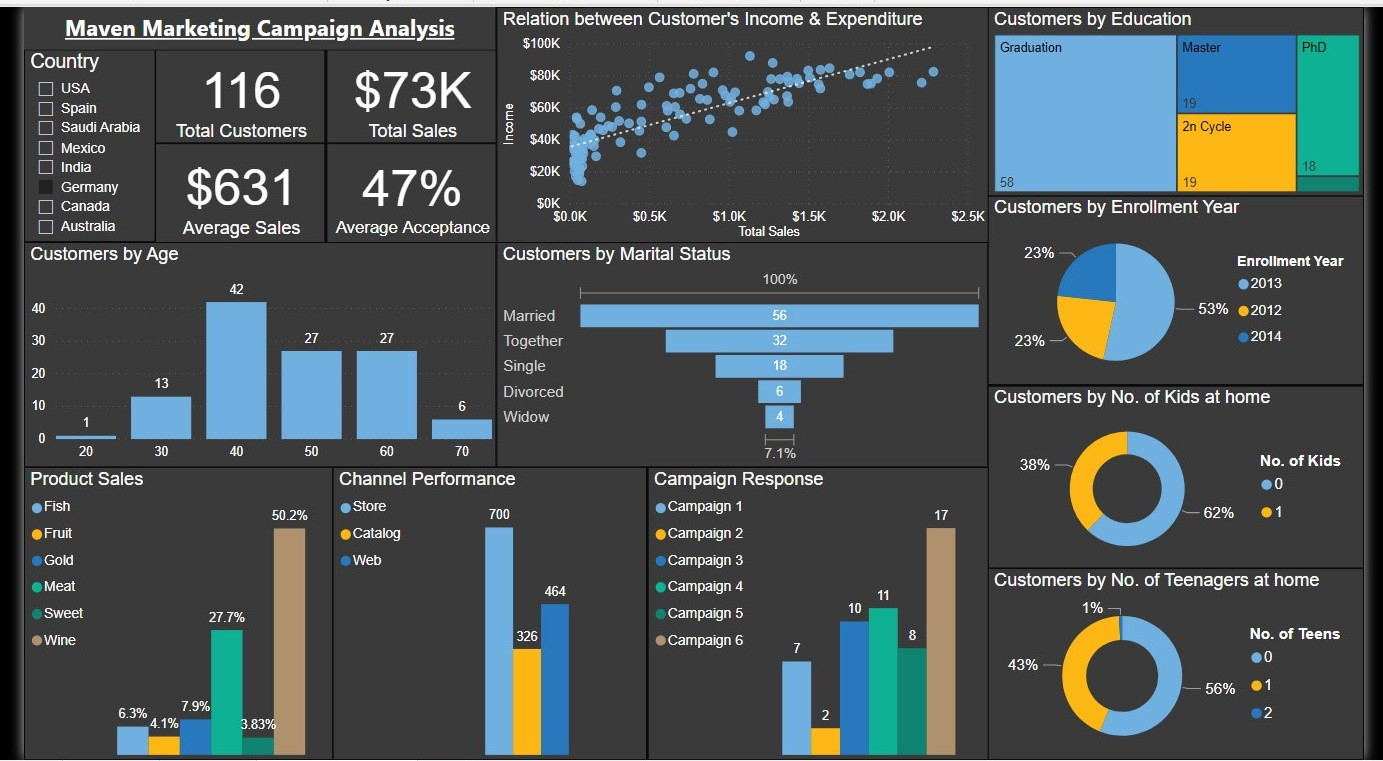

This screenshot's page, from the dashboard's own definition file:
{"tool":"powerbi","page":{"name":"Final Dashboard","canvas":[1280,720],"ordinal":4},"visuals":[{"type":"clusteredColumnChart","title":"Product Sales","fields":{"Y":["marketing_data.Fish Sales","marketing_data.Fruit Sales","marketing_data.Gold Sales","marketing_data.Meat Sales","marketing_data.Sweet Sales","marketing_data.Wine Sales"]},"box":[0,439.9,295.3,279.6],"z":0},{"type":"slicer","title":"Country","fields":{"Values":["marketing_data.Country"]},"box":[0,40.8,125.7,184.1],"z":1000},{"type":"scatterChart","title":"Relation between Customer''s Income & Expenditure","fields":{"Category":["marketing_data.ID"],"X":["marketing_data.Total Expenditure"],"Y":["Sum(marketing_data. Income )"]},"box":[450.8,0,470.1,225.4],"z":2000},{"type":"donutChart","title":"Customers by No. of Kids at home","fields":{"Category":["marketing_data.Kidhome"],"Y":["marketing_data.Total Customers"]},"box":[920.8,361.6,359.2,174.8],"z":3000},{"type":"clusteredColumnChart","title":"Channel Performance","fields":{"Y":["Sum(marketing_data.NumStorePurchases)","Sum(marketing_data.NumCatalogPurchases)","Sum(marketing_data.NumWebPurchases)"]},"box":[295.5,439.9,299.9,280.1],"z":4000},{"type":"donutChart","title":"Customers by No. of Teenagers at home","fields":{"Category":["marketing_data.Teenhome"],"Y":["marketing_data.Total Customers"]},"box":[920.8,536.3,359.2,183.2],"z":5000},{"type":"funnel","title":"Customers by Marital Status","fields":{"Category":["marketing_data.Marital_Status"],"Y":["marketing_data.Total Customers"]},"box":[451,224.9,469.7,215],"z":6000},{"type":"clusteredColumnChart","title":"Customers by Age","fields":{"Category":["marketing_data.Age (bins)"],"Y":["marketing_data.Total Customers"]},"box":[0,224.9,451,215],"z":7000},{"type":"clusteredColumnChart","title":"Campaign Response","fields":{"Y":["Sum(marketing_data.AcceptedCmp1)","Sum(marketing_data.AcceptedCmp2)","Sum(marketing_data.AcceptedCmp3)","Sum(marketing_data.AcceptedCmp4)","Sum(marketing_data.AcceptedCmp5)","Sum(marketing_data.Response)"]},"box":[595.4,439.9,325.3,280.1],"z":8000},{"type":"card","fields":{"Values":["marketing_data.Total Customers"]},"box":[125.7,40.8,162.1,89.3],"z":9000},{"type":"card","fields":{"Values":["marketing_data.Total Expenditure"]},"box":[288.9,40.8,162.1,89.3],"z":10000},{"type":"card","fields":{"Values":["marketing_data.Avg Expenditure"]},"box":[125.7,130.1,162.1,94.8],"z":11000},{"type":"card","fields":{"Values":["marketing_data.Avg Acceptance"]},"box":[288.9,130.1,162.1,94.8],"z":12000},{"type":"treemap","title":"Customers by Education","fields":{"Group":["marketing_data.Education"],"Values":["marketing_data.Total Customers"]},"box":[920.8,0,359.2,180.8],"z":13000},{"type":"pieChart","title":"Customers by Enrollment Year","fields":{"Category":["marketing_data.Enrollment_Yr"],"Y":["marketing_data.Total Customers"]},"box":[920.8,180.8,359.2,180.8],"z":14000},{"type":"textbox","box":[0,0,450.3,40.7],"z":15000}]}

Visuals, with their boxes in screenshot pixels (x1, y1, x2, y2), scaled from the page's 1280x720 canvas onto the 1383x761 screenshot:
"Product Sales" clusteredColumnChart: Rect(0, 465, 319, 760)
"Country" slicer: Rect(0, 43, 136, 238)
"Relation between Customer''s Income & Expenditure" scatterChart: Rect(487, 0, 995, 238)
"Customers by No. of Kids at home" donutChart: Rect(995, 382, 1382, 567)
"Channel Performance" clusteredColumnChart: Rect(319, 465, 643, 760)
"Customers by No. of Teenagers at home" donutChart: Rect(995, 567, 1382, 760)
"Customers by Marital Status" funnel: Rect(487, 238, 995, 465)
"Customers by Age" clusteredColumnChart: Rect(0, 238, 487, 465)
"Campaign Response" clusteredColumnChart: Rect(643, 465, 995, 760)
card - marketing_data.Total Customers: Rect(136, 43, 311, 138)
card - marketing_data.Total Expenditure: Rect(312, 43, 487, 138)
card - marketing_data.Avg Expenditure: Rect(136, 138, 311, 238)
card - marketing_data.Avg Acceptance: Rect(312, 138, 487, 238)
"Customers by Education" treemap: Rect(995, 0, 1382, 191)
"Customers by Enrollment Year" pieChart: Rect(995, 191, 1382, 382)
textbox: Rect(0, 0, 487, 43)
